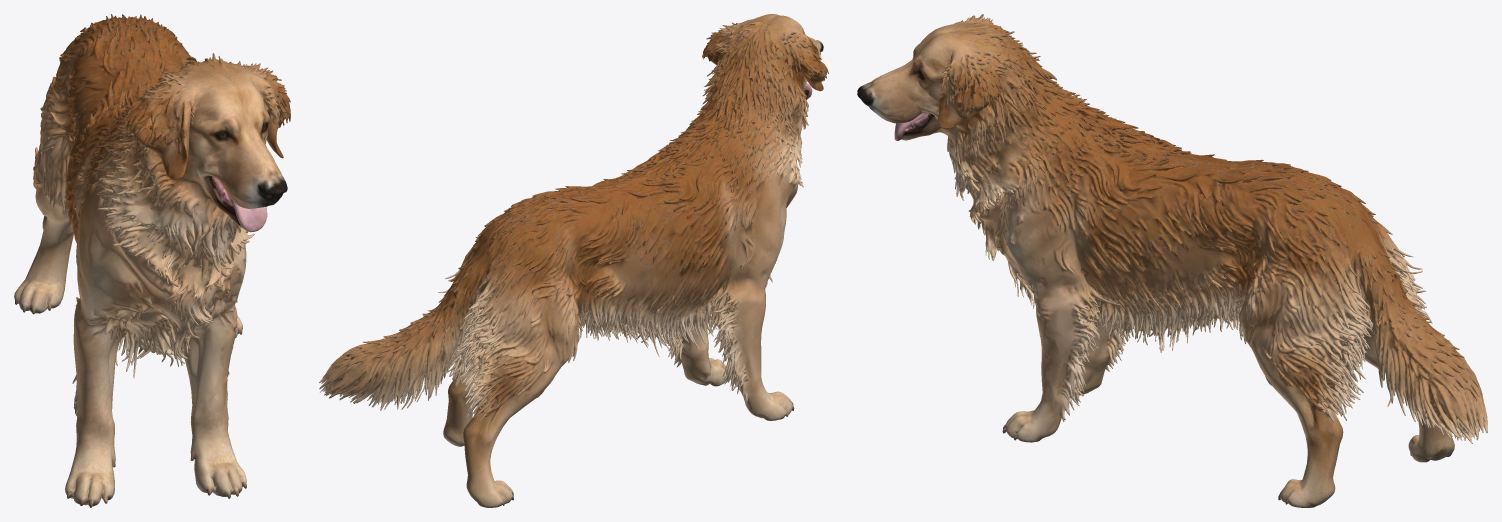
The model's file is golden.glb.
3 views of the same model, side by side, from view 1: azimuth 30°, elevation 25°; view 2: azimuth 150°, elevation 25°; view 3: azimuth 270°, elevation 25° (orthographic). The views are drawn at different scales.
Bounding box in the file's own units: 1.14 × 1.3 × 1.9.
1 material, 1 textured.
